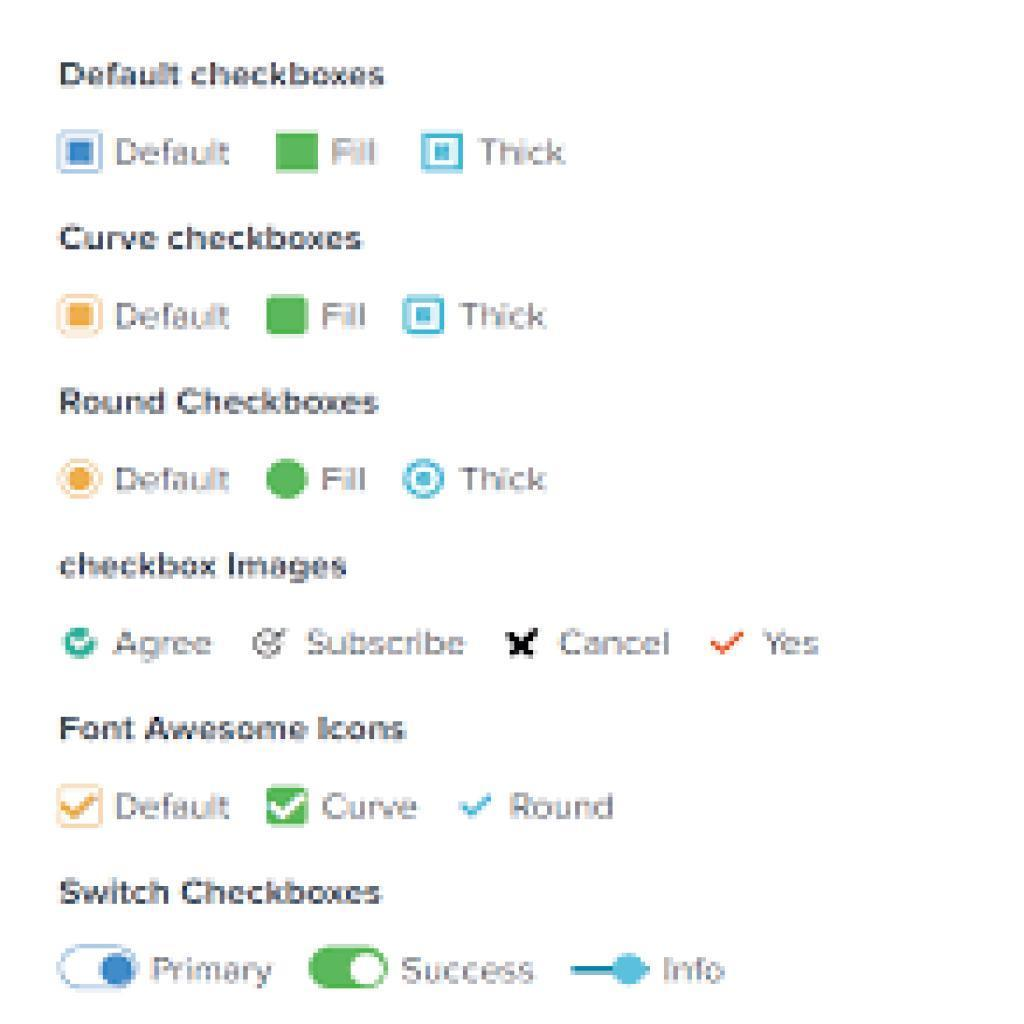checkbox: (59, 784, 104, 829), (59, 130, 102, 175), (62, 293, 104, 335), (402, 296, 446, 336), (422, 132, 465, 172), (270, 789, 308, 825)
icon: (703, 627, 748, 666), (503, 623, 540, 666), (254, 623, 291, 661), (459, 790, 495, 828)
radio: (59, 457, 108, 501), (402, 457, 449, 501), (60, 620, 102, 666)
slider: (564, 952, 658, 987)
switch: (59, 940, 142, 992), (310, 942, 391, 990)
